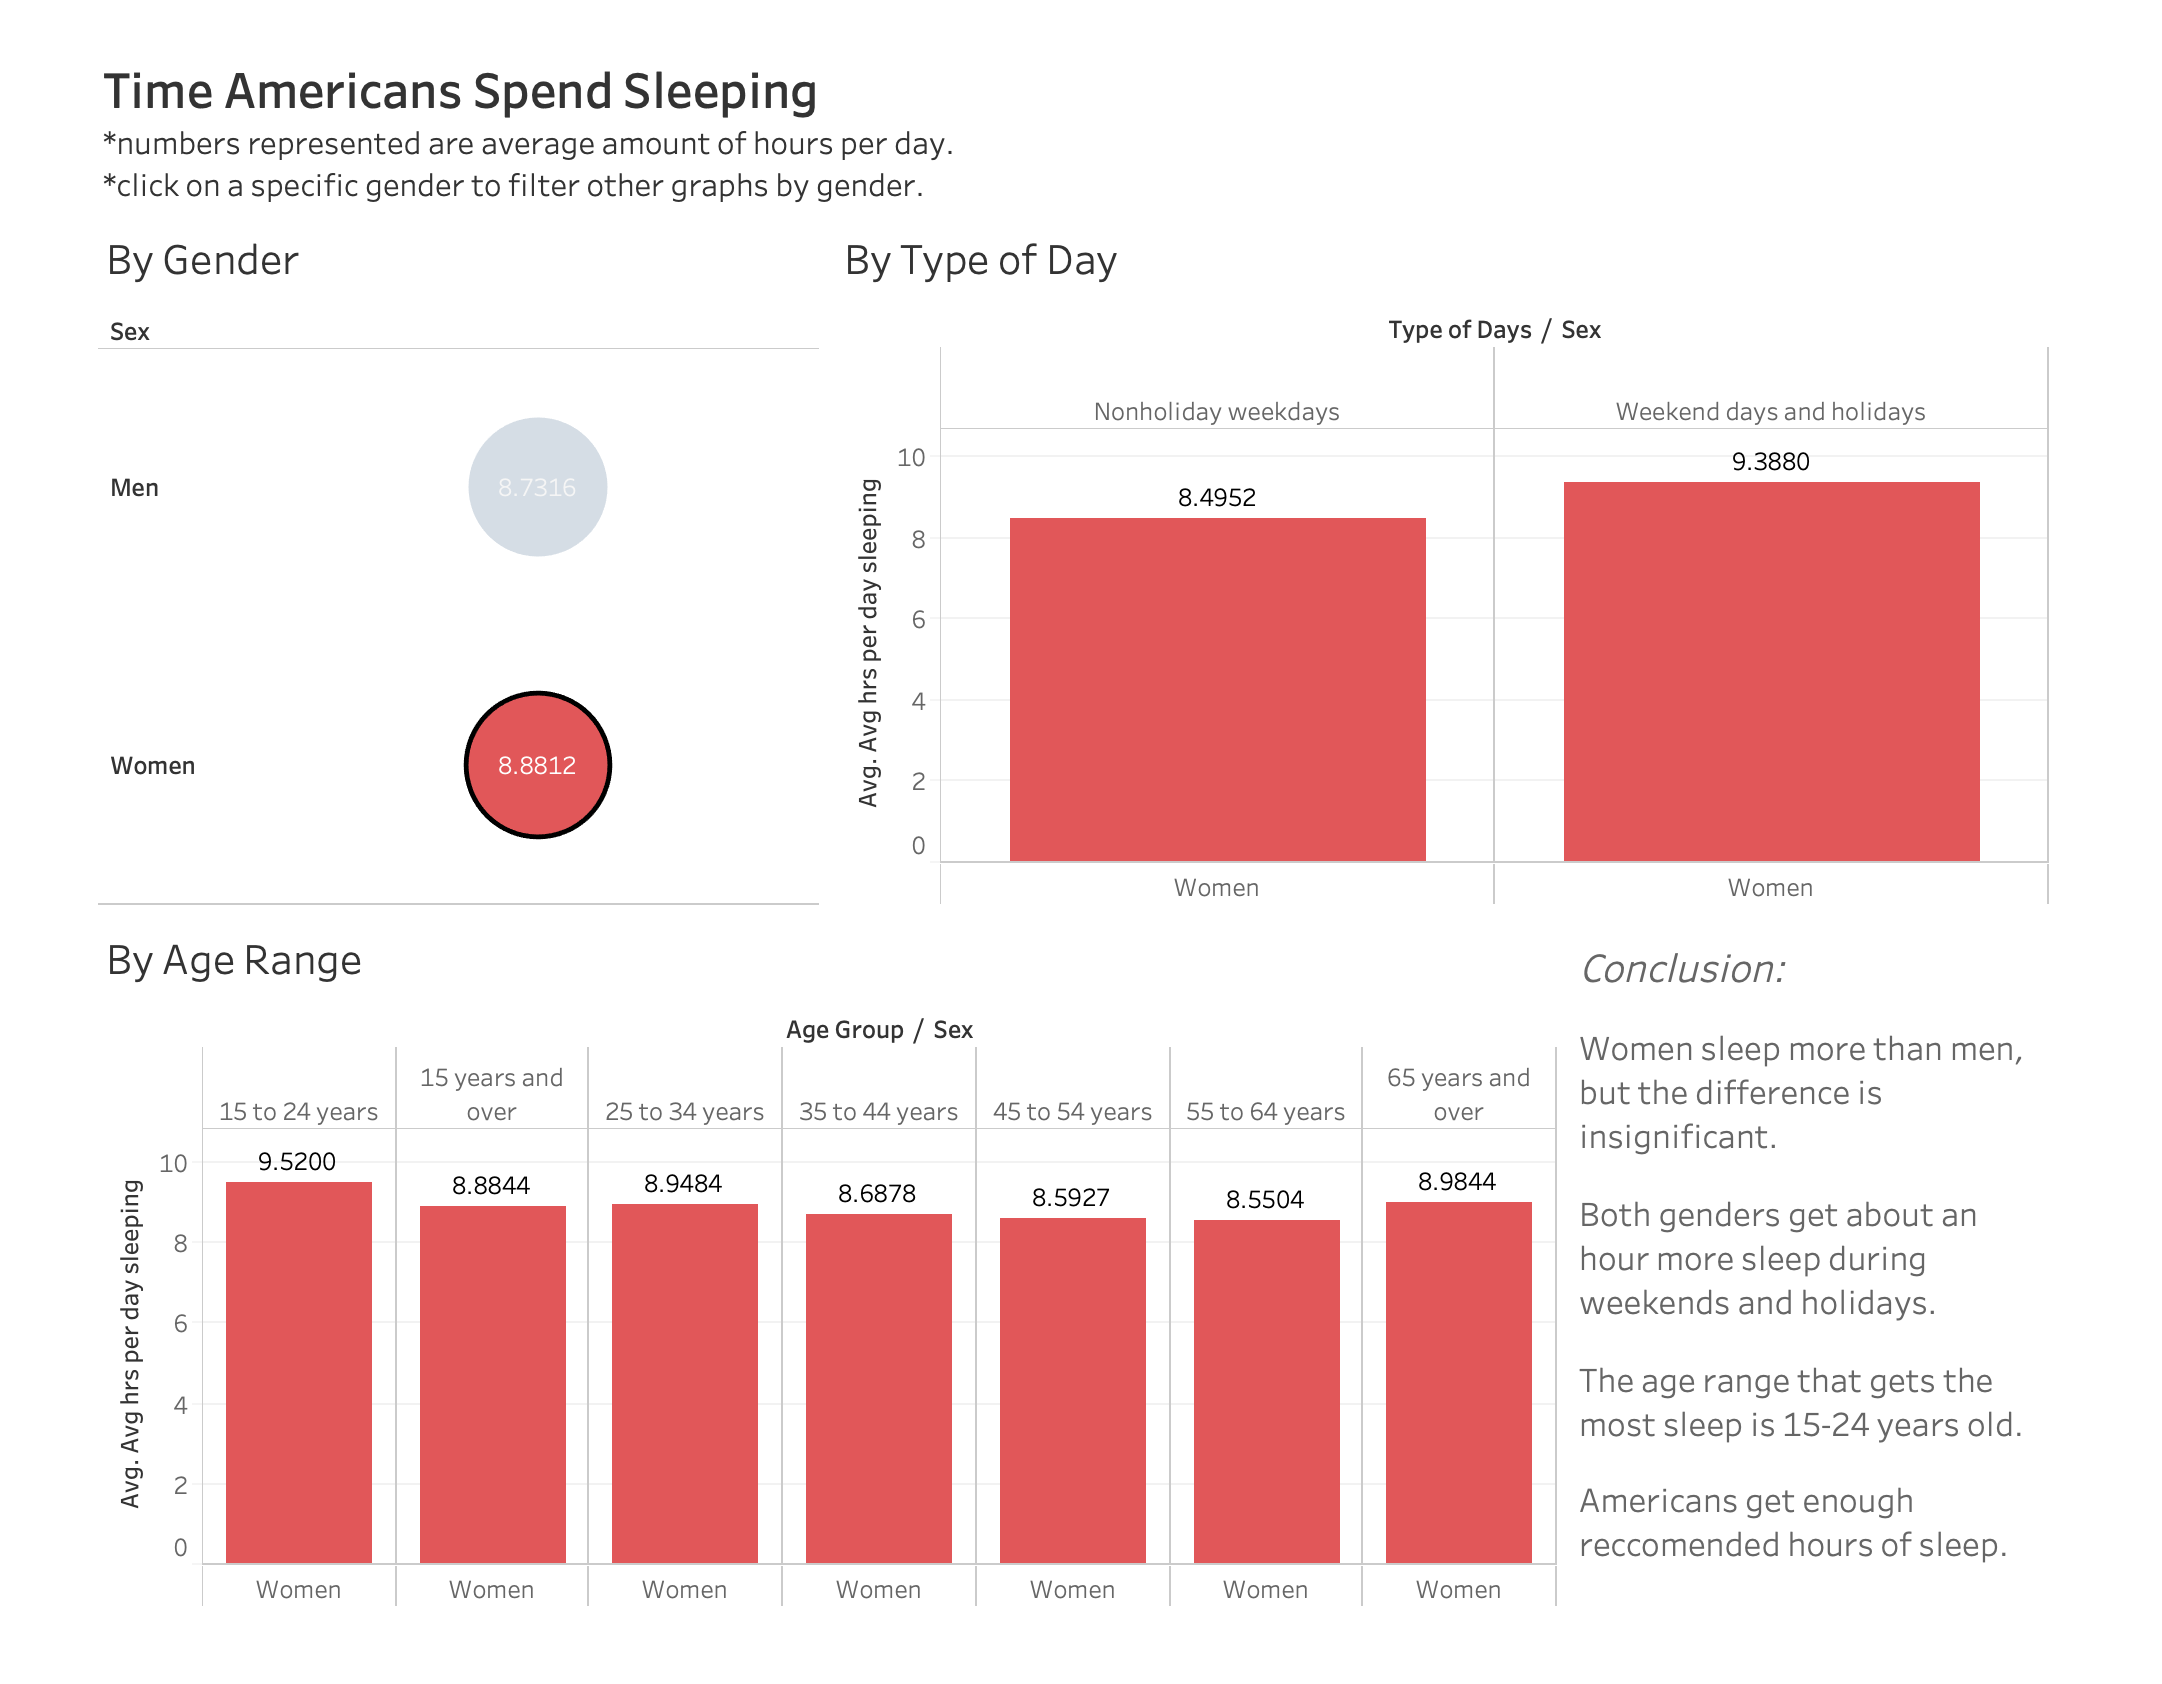

Layout of this report page (visuals, bound fields, positions):
{"tool":"tableau","page":{"name":"Dashboard 1","canvas":[1000,800],"ordinal":0},"visuals":[{"type":"worksheet","box":[0,0,1000,800]},{"type":"worksheet","param":"vert","box":[8,8,984,784]},{"type":"worksheet","box":[8,8,984,83]},{"type":"worksheet","param":"horz","box":[8,91,984,701]},{"type":"worksheet","param":"horz","box":[8,91,984,701]},{"type":"worksheet","param":"horz","box":[8,91,984,701]},{"type":"worksheet","box":[8,91,984,701]},{"type":"worksheet","title":"Sheet 3","mark":"Pie","rows":["Sex"],"box":[8,91,369,350.5]},{"type":"worksheet","title":"Sheet 2","mark":"Automatic","rows":["Avg hrs per day sleeping"],"cols":["Type of Days","Sex"],"box":[377,91,615,350.5]},{"type":"worksheet","title":"Sheet 1","mark":"Automatic","rows":["Avg hrs per day sleeping"],"cols":["Age Group","Sex"],"box":[8,441.5,738,350.5]},{"type":"worksheet","box":[746,441.5,246,350.5]}]}

Visuals, with their boxes in screenshot pixels (x1, y1, x2, y2), scaled from the page's 1000x800 canvas onto the 2162x1684 screenshot:
worksheet: {"x1": 0, "y1": 0, "x2": 2161, "y2": 1683}
worksheet: {"x1": 17, "y1": 17, "x2": 2145, "y2": 1667}
worksheet: {"x1": 17, "y1": 17, "x2": 2145, "y2": 192}
worksheet: {"x1": 17, "y1": 192, "x2": 2145, "y2": 1667}
worksheet: {"x1": 17, "y1": 192, "x2": 2145, "y2": 1667}
worksheet: {"x1": 17, "y1": 192, "x2": 2145, "y2": 1667}
worksheet: {"x1": 17, "y1": 192, "x2": 2145, "y2": 1667}
"Sheet 3" worksheet (Pie marks): {"x1": 17, "y1": 192, "x2": 815, "y2": 929}
"Sheet 2" worksheet: {"x1": 815, "y1": 192, "x2": 2145, "y2": 929}
"Sheet 1" worksheet: {"x1": 17, "y1": 929, "x2": 1613, "y2": 1667}
worksheet: {"x1": 1613, "y1": 929, "x2": 2145, "y2": 1667}
